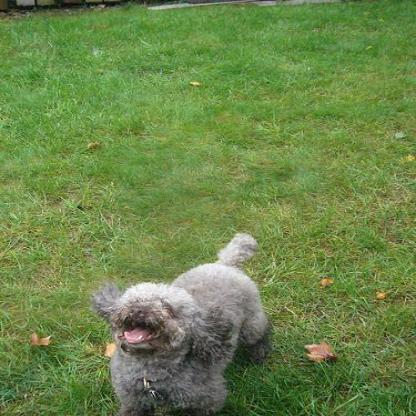miniature_poodle: (84, 229, 276, 413)
